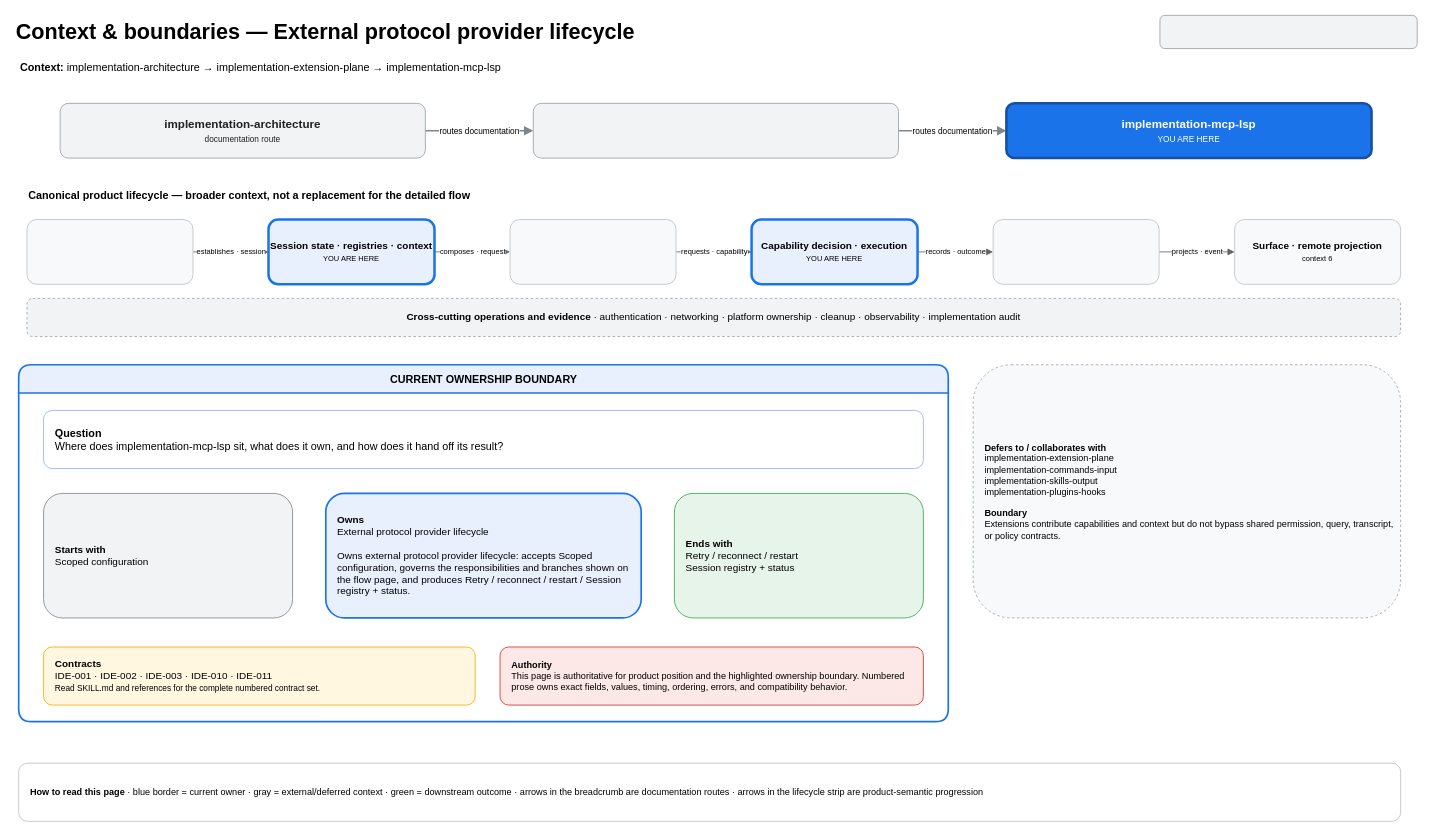
This 1432x836 diagram has some shape labels left out. The shapes that lost their labels are listed below. From the top down, each one's centre as x and y in pixels, then its label:
pixel 1288 32: architecture overview · template 2.0-context-flow
pixel 715 130: implementation-extension-plane documentation route
pixel 109 251: Entrypoint · identity · policy context 1
pixel 592 251: Query engine · model stream context 3
pixel 1075 251: Transcript · tasks · continuity context 5
